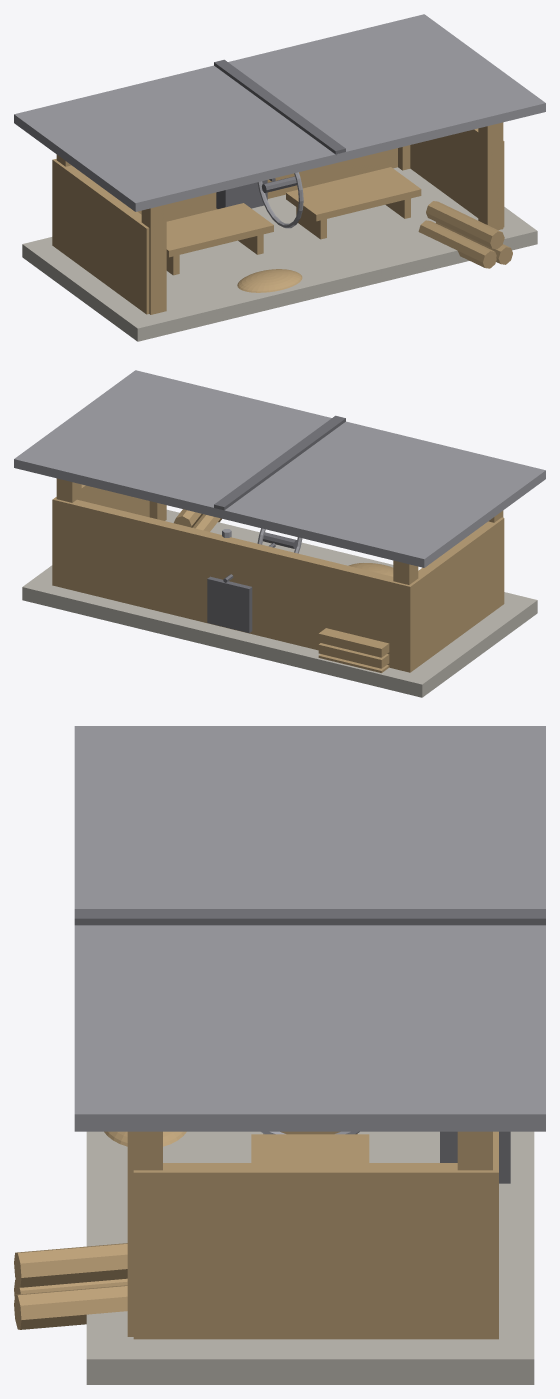
The model's file is sawmill.glb.
3 renders of one model, top to bottom at view 1: azimuth 30°, elevation 25°; view 2: azimuth 150°, elevation 25°; view 3: azimuth 270°, elevation 25°, orthographic. The views are drawn at different scales.
Parts seen in each view (by area): view 1: Sawmill; view 2: Sawmill; view 3: Sawmill.
Part boxes in pixels (left/top/right/bottom): Sawmill: left=14, top=14, right=545, bottom=341; Sawmill: left=14, top=370, right=545, bottom=697; Sawmill: left=14, top=726, right=545, bottom=1384.
Bounding box in the file's own units: 3.9 × 1.32 × 2.26.
